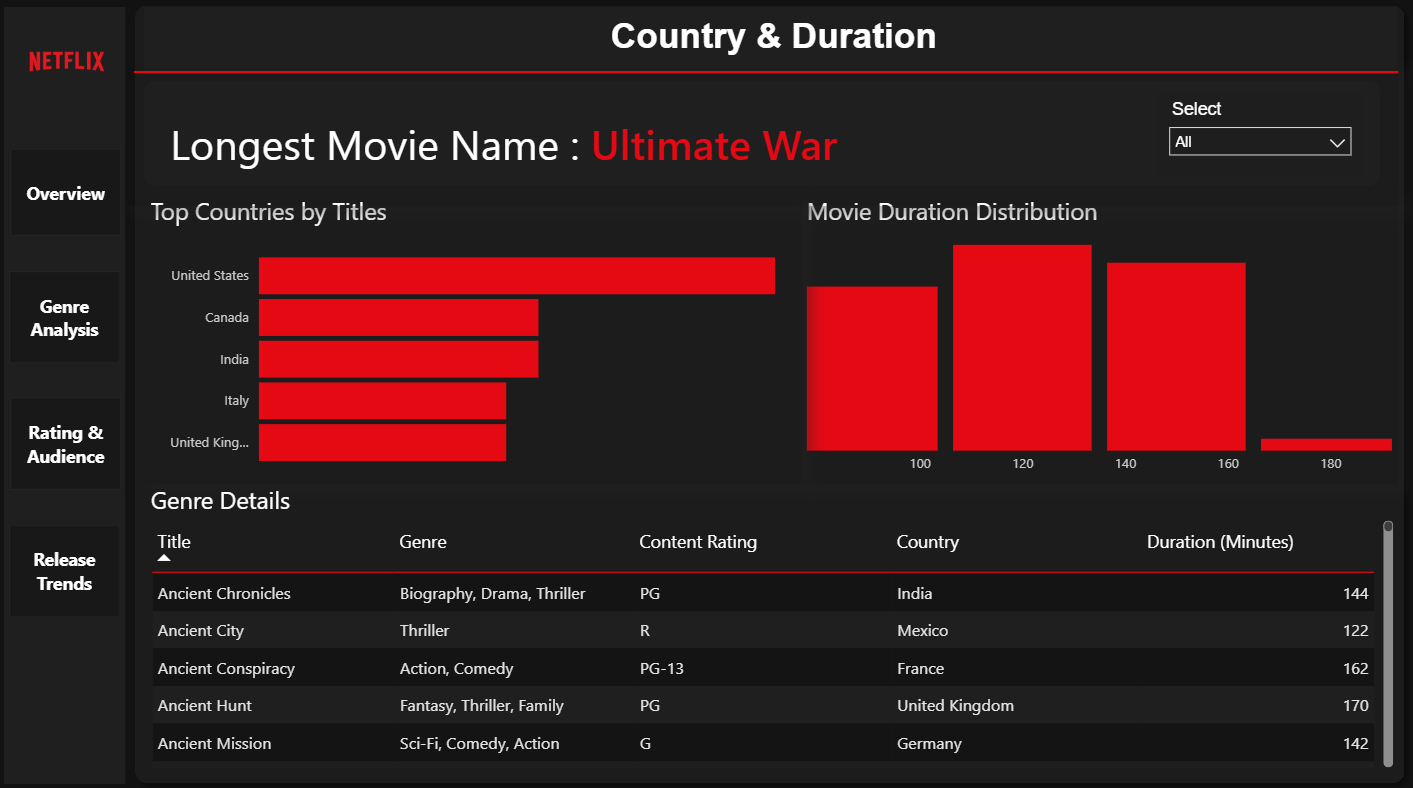

This screenshot's page, from the dashboard's own definition file:
{"tool":"powerbi","page":{"name":"Country & Duration","canvas":[1280,720],"ordinal":2},"visuals":[{"type":"shape","box":[114.1,0,1165.9,720.7],"z":0},{"type":"shape","box":[131.5,9.7,1134.1,60.3],"z":1000},{"type":"clusteredColumnChart","title":"Movie Duration Distribution","fields":{"Category":["Nithish.Total Runtime (Minutes) (bins)"],"Y":["Measures Table.Total Titles"]},"box":[726.4,179.8,539.3,261.7],"z":2000},{"type":"clusteredBarChart","title":"Top Countries by Titles","fields":{"Category":["Nithish.Country"],"Y":["Measures Table.Total Titles"]},"box":[132.1,179.8,594.3,261.7],"z":3000},{"type":"cardVisual","title":"Total Titles","fields":{"Data":["Measures Table.Longest Movie Name :"]},"box":[114.1,59.8,1152,129.4],"z":4000},{"type":"tableEx","title":"Genre Details","fields":{"Values":["Nithish.Title","Nithish.Genre","Nithish.Content Rating","Nithish.Country","Sum(Nithish.Total Runtime (Minutes))"]},"box":[132.2,441,1133.9,261.6],"z":5000},{"type":"textbox","box":[507.9,13.3,377.6,45.8],"z":6000},{"type":"shape","box":[122.4,0,1143.7,137.7],"z":7000},{"type":"shape","box":[4.2,9.7,109.9,702.6],"z":8000},{"type":"actionButton","box":[10,138,100.2,79],"z":9000},{"type":"actionButton","box":[8.9,248.5,100.2,83.5],"z":10000},{"type":"actionButton","box":[9.3,478.8,100.2,83.9],"z":11000},{"type":"actionButton","box":[10.5,363.5,100.2,83.9],"z":12000},{"type":"slicer","fields":{"Values":["Nithish.Country"]},"box":[1047.7,87.7,185,75.1],"z":13000},{"type":"image","box":[0,0,122.4,124.7],"z":14000}]}

Visuals, with their boxes in screenshot pixels (x1, y1, x2, y2), scaled from the page's 1280x720 canvas onto the 1413x788 screenshot:
shape: rect(126, 0, 1412, 787)
shape: rect(145, 11, 1397, 77)
"Movie Duration Distribution" clusteredColumnChart: rect(802, 197, 1397, 483)
"Top Countries by Titles" clusteredBarChart: rect(146, 197, 802, 483)
"Total Titles" cardVisual: rect(126, 65, 1398, 207)
"Genre Details" tableEx: rect(146, 483, 1398, 769)
textbox: rect(561, 15, 978, 65)
shape: rect(135, 0, 1398, 151)
shape: rect(5, 11, 126, 780)
actionButton: rect(11, 151, 122, 237)
actionButton: rect(10, 272, 120, 363)
actionButton: rect(10, 524, 121, 616)
actionButton: rect(12, 398, 122, 490)
slicer - Nithish.Country: rect(1157, 96, 1361, 178)
image: rect(0, 0, 135, 136)
